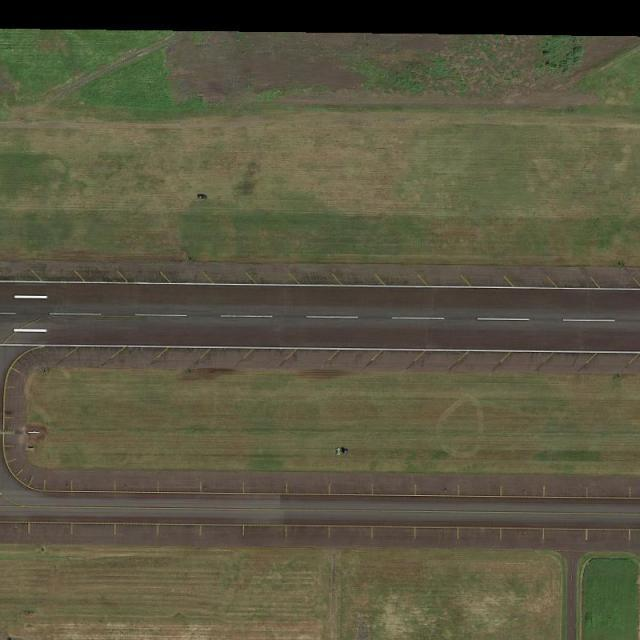vehicle: (198, 194, 206, 199)
